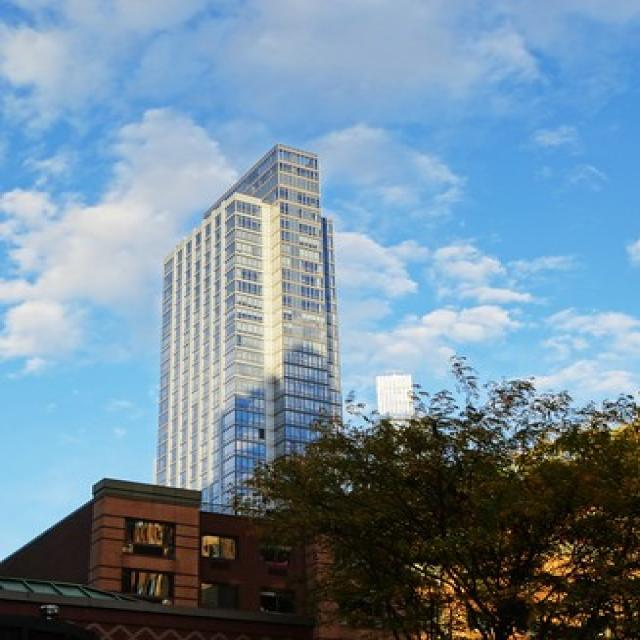building: (150, 140, 347, 564)
